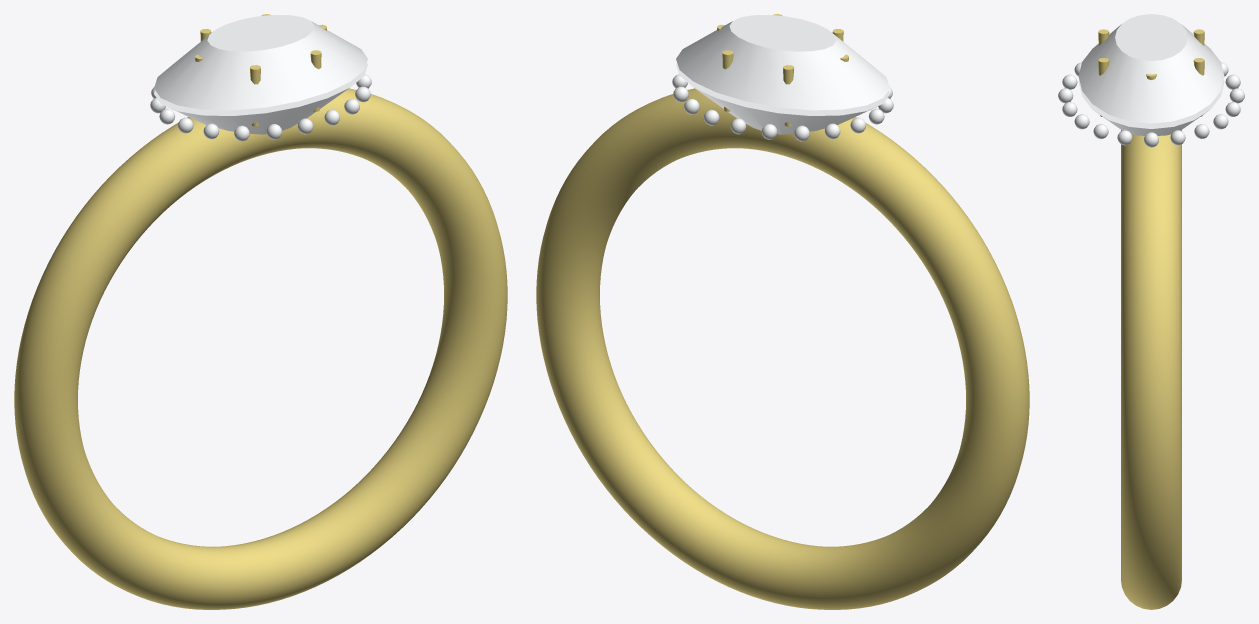
File: diamond-ring.glb
3 renders of one model, left to right at view 1: azimuth 30°, elevation 25°; view 2: azimuth 150°, elevation 25°; view 3: azimuth 270°, elevation 25°, orthographic. The views are drawn at different scales.
Visible parts, largest first — view 1: platinum_band_metal, oval_diamond_stone, halo_diamond_stone; view 2: platinum_band_metal, oval_diamond_stone, halo_diamond_stone; view 3: platinum_band_metal, oval_diamond_stone, halo_diamond_stone.
Boxes of the visible parts, left/top/right/bottom form: platinum_band_metal: left=14, top=14, right=507, bottom=609; oval_diamond_stone: left=154, top=15, right=367, bottom=134; halo_diamond_stone: left=150, top=74, right=371, bottom=141; platinum_band_metal: left=536, top=14, right=1029, bottom=609; oval_diamond_stone: left=676, top=15, right=889, bottom=134; halo_diamond_stone: left=672, top=74, right=893, bottom=141; platinum_band_metal: left=1098, top=29, right=1204, bottom=609; oval_diamond_stone: left=1078, top=14, right=1224, bottom=135; halo_diamond_stone: left=1058, top=62, right=1244, bottom=147.
Bounding box in the file's own units: 1.76 × 1.97 × 0.61.
